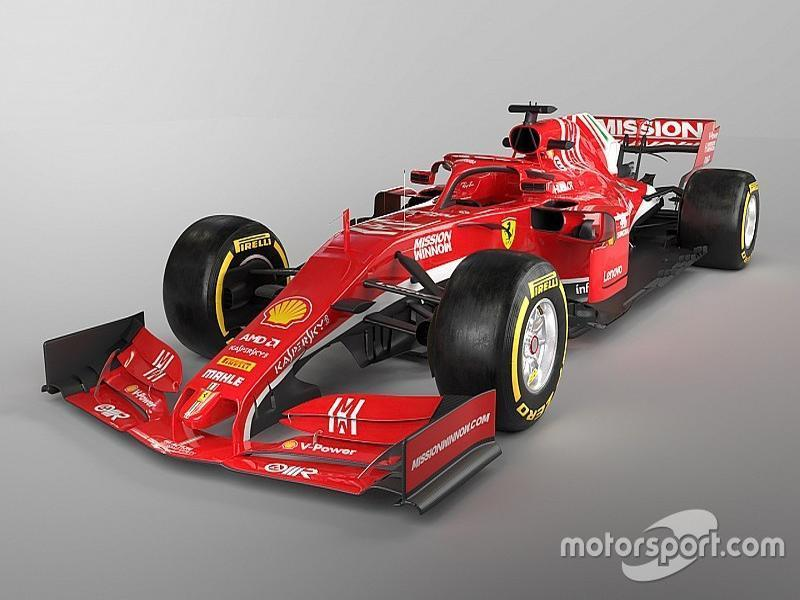f1: (33, 49, 779, 513)
